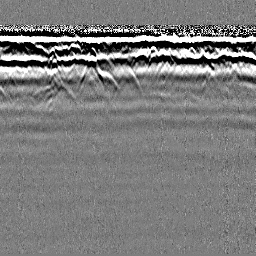cavity: (109, 61, 146, 102)
